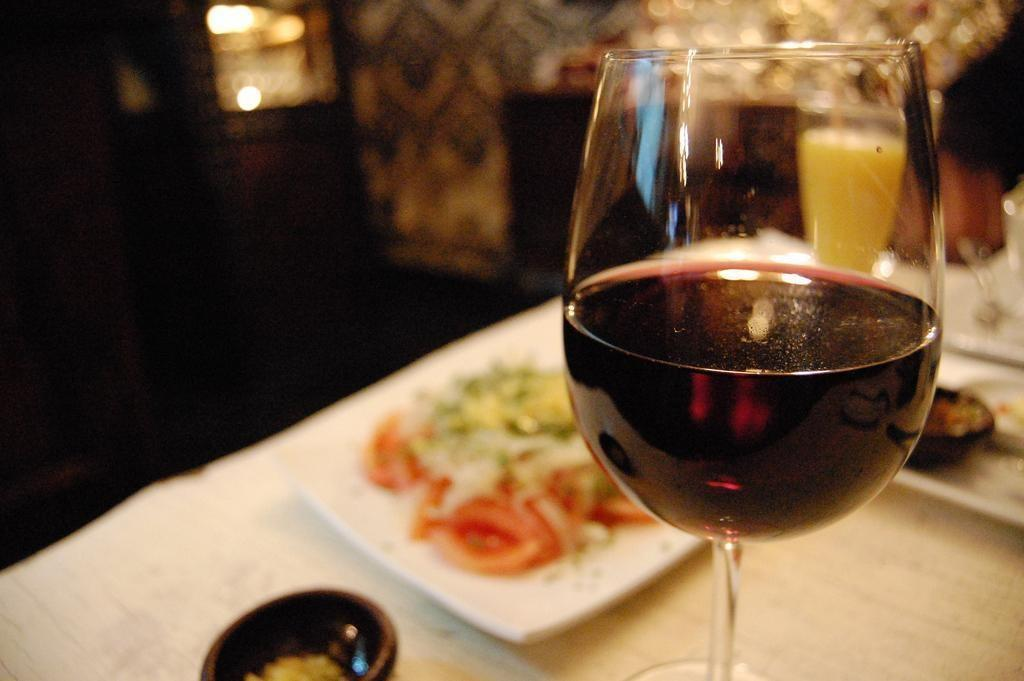glass-wine: (560, 36, 948, 680)
